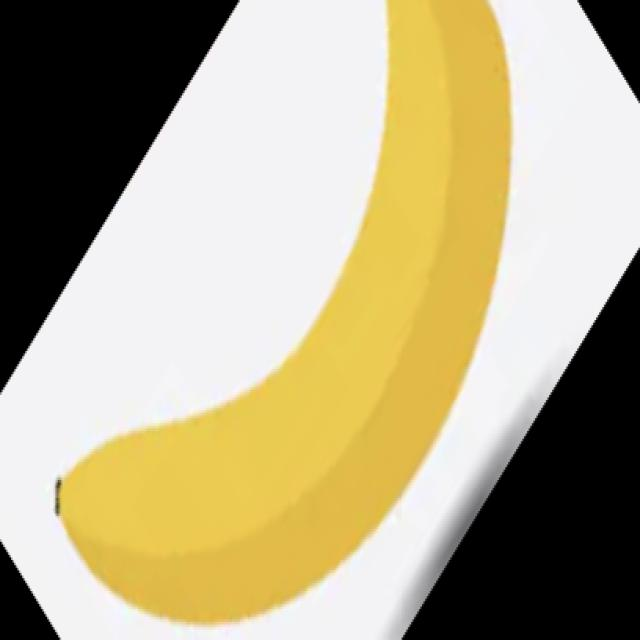god quality banana: (56, 4, 510, 623)
